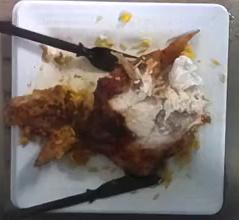chicken: (7, 56, 211, 176)
